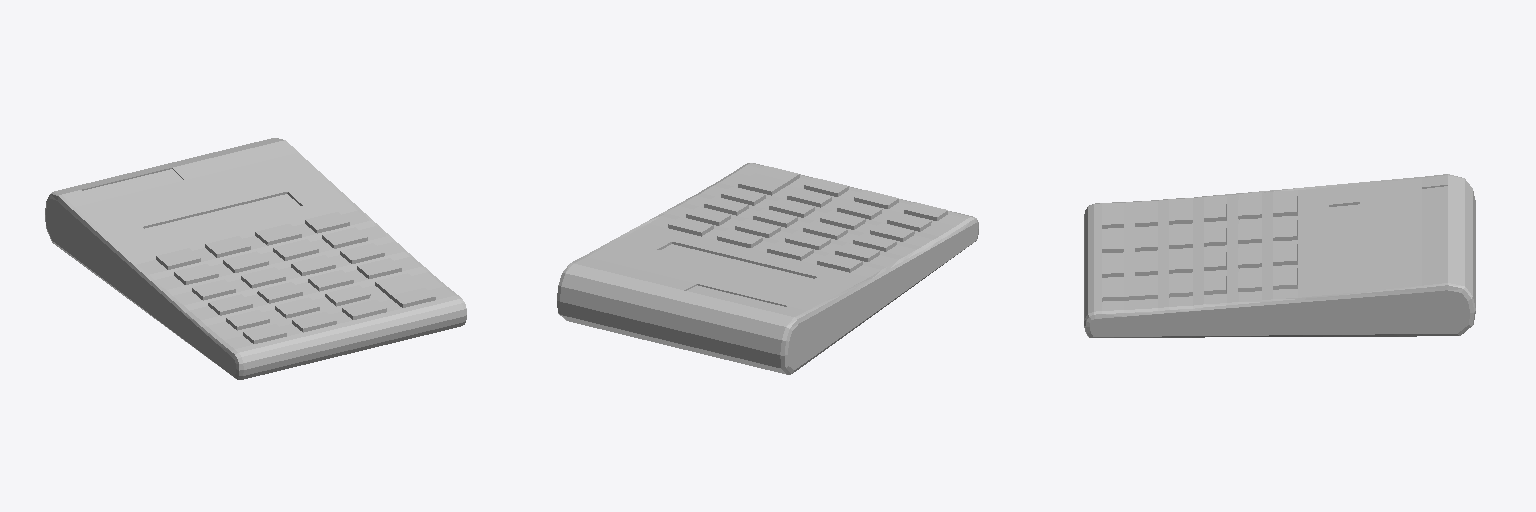
File: calculator.obj
3 views of the same model, side by side, from view 1: azimuth 30°, elevation 25°; view 2: azimuth 150°, elevation 25°; view 3: azimuth 270°, elevation 25° (orthographic).
Visible parts, largest first — view 1: B_Electric_0_018; view 2: B_Electric_0_018; view 3: B_Electric_0_018.
Boxes of the visible parts, box(x1,y1,x2,y2) form: B_Electric_0_018: box(45, 138, 466, 379); B_Electric_0_018: box(557, 163, 978, 374); B_Electric_0_018: box(1084, 174, 1475, 337).
Size of the model in its own units: 5.04 by 1.13 by 7.44.